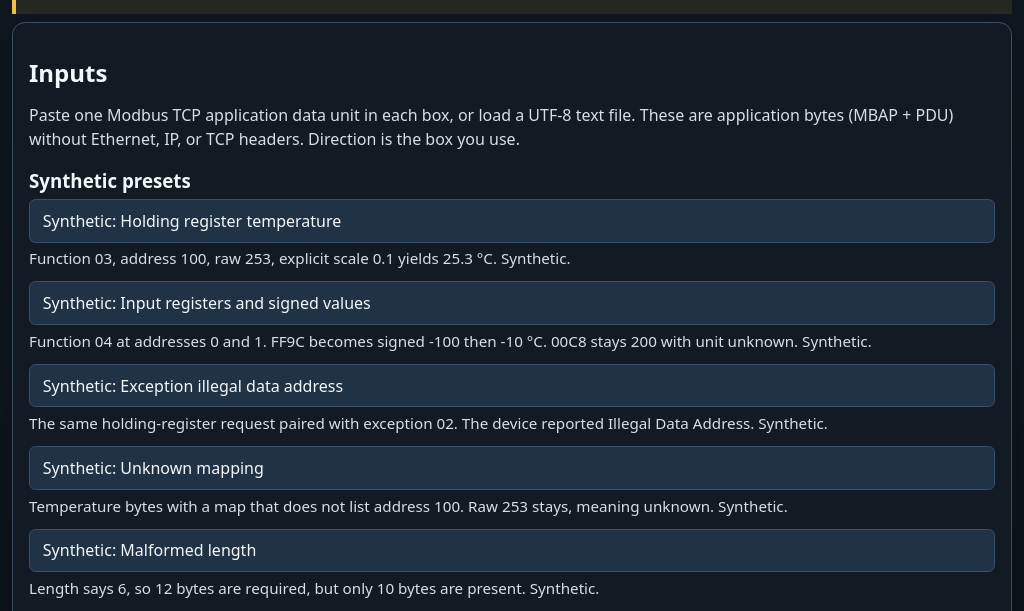
Scenario: Register Lens UI › resets inputs and results
Click the button "Synthetic: Holding register temperature". click: [192, 221]
box: [29,199,995,243]
(page scrolled)
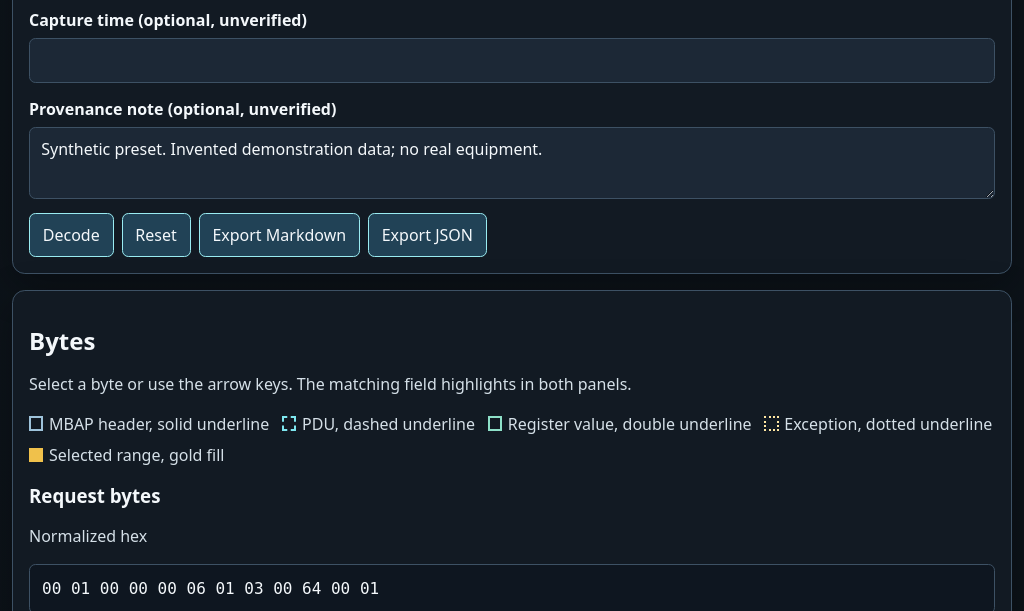
Click the button "Reset". click: [156, 235]
box: [122,213,190,257]
(page scrolled)
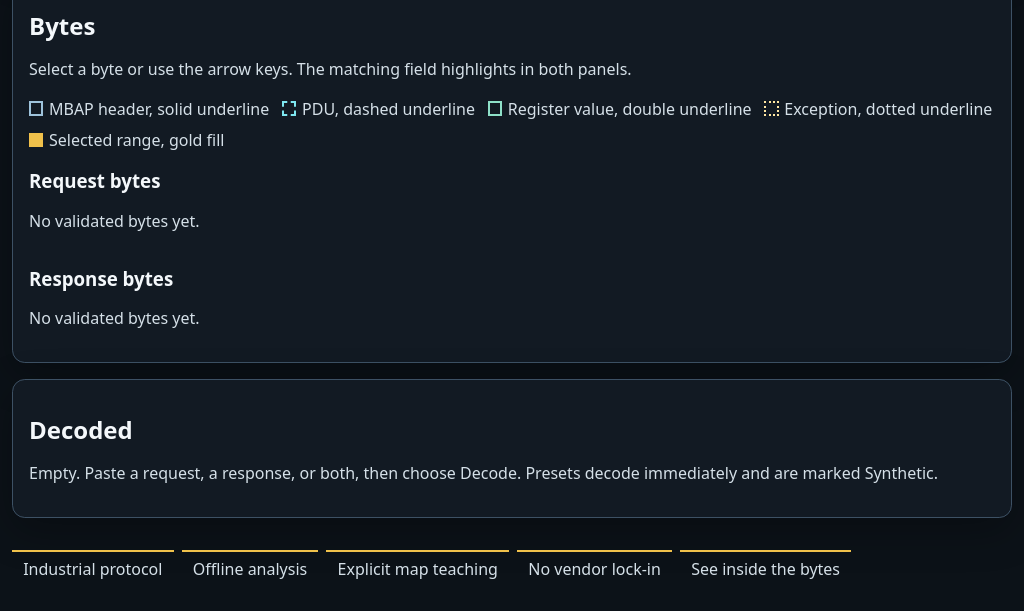
Result: the text "Paste a request" is shown at [29,462,938,484]
